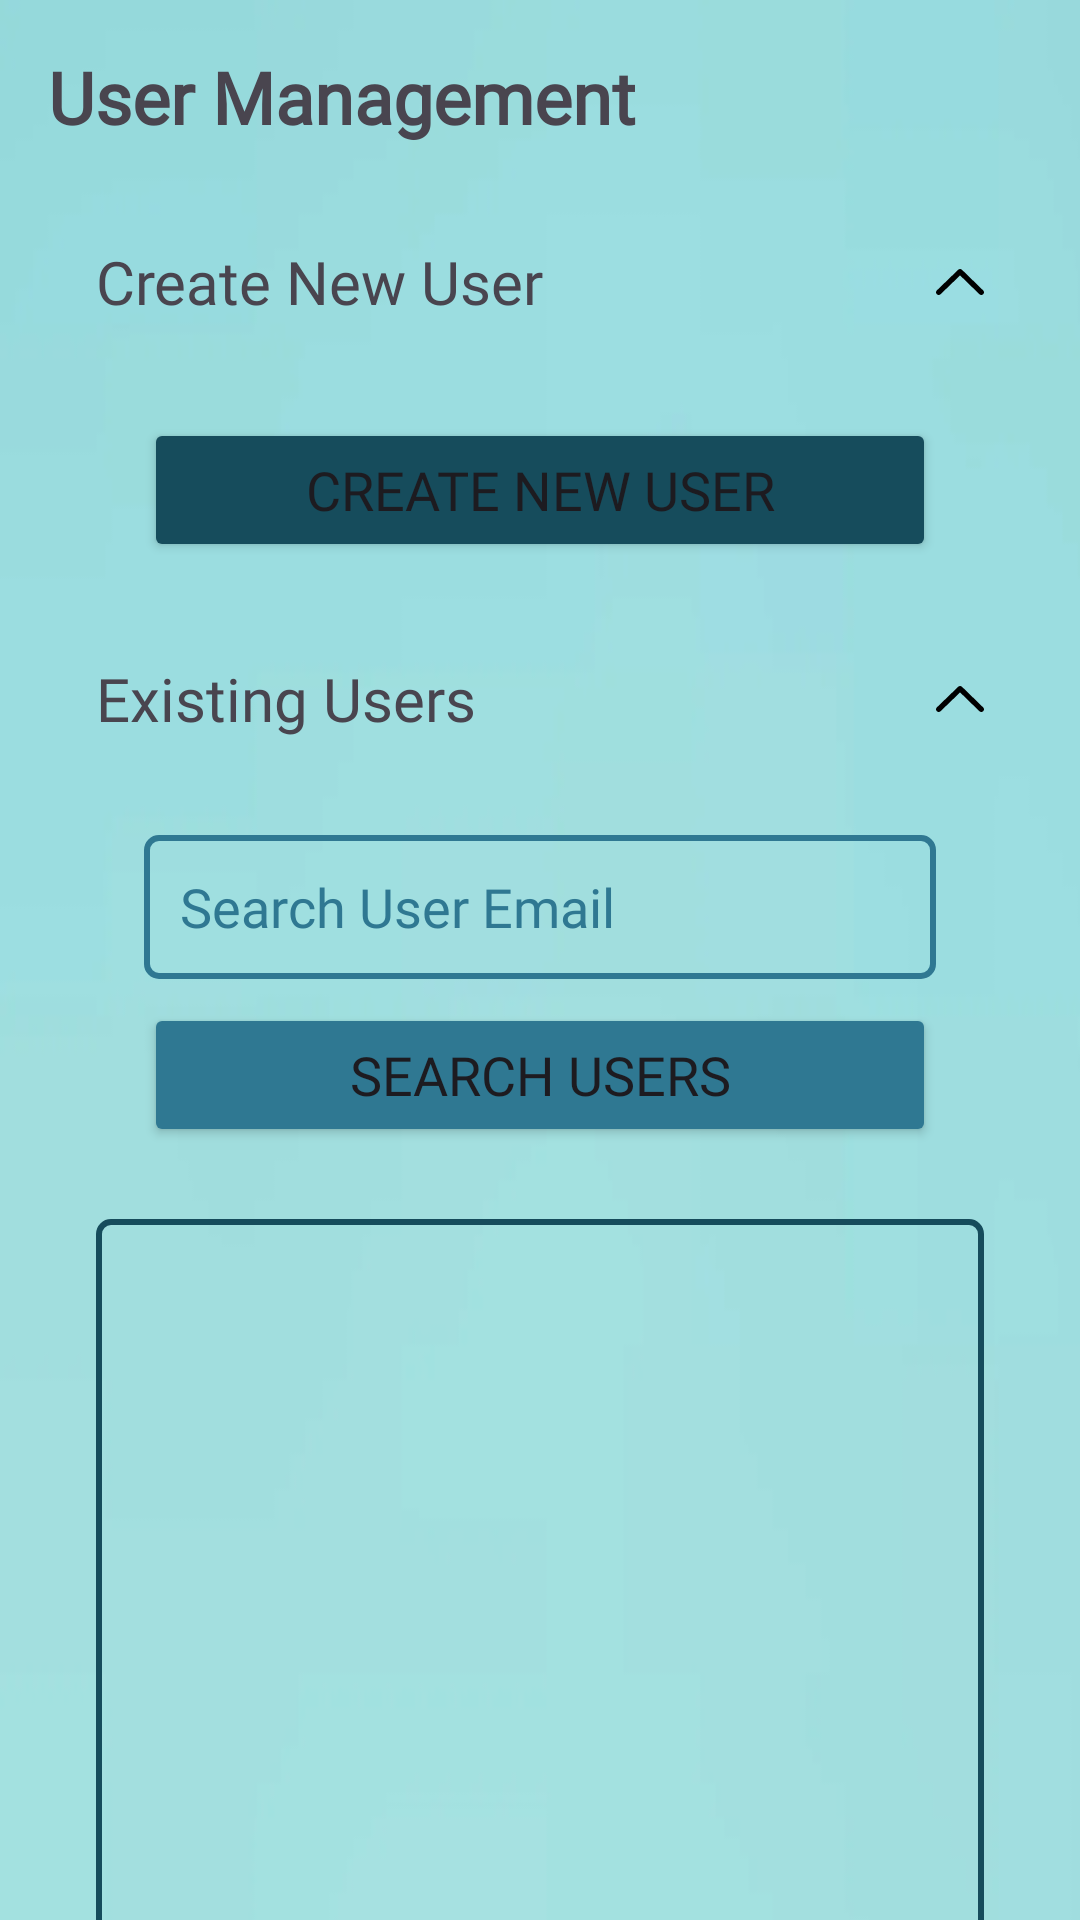

Named icons in this screenshot (1080*1920) and their centers, point (x, y):
arrow up: point (960, 282), point (960, 699)
